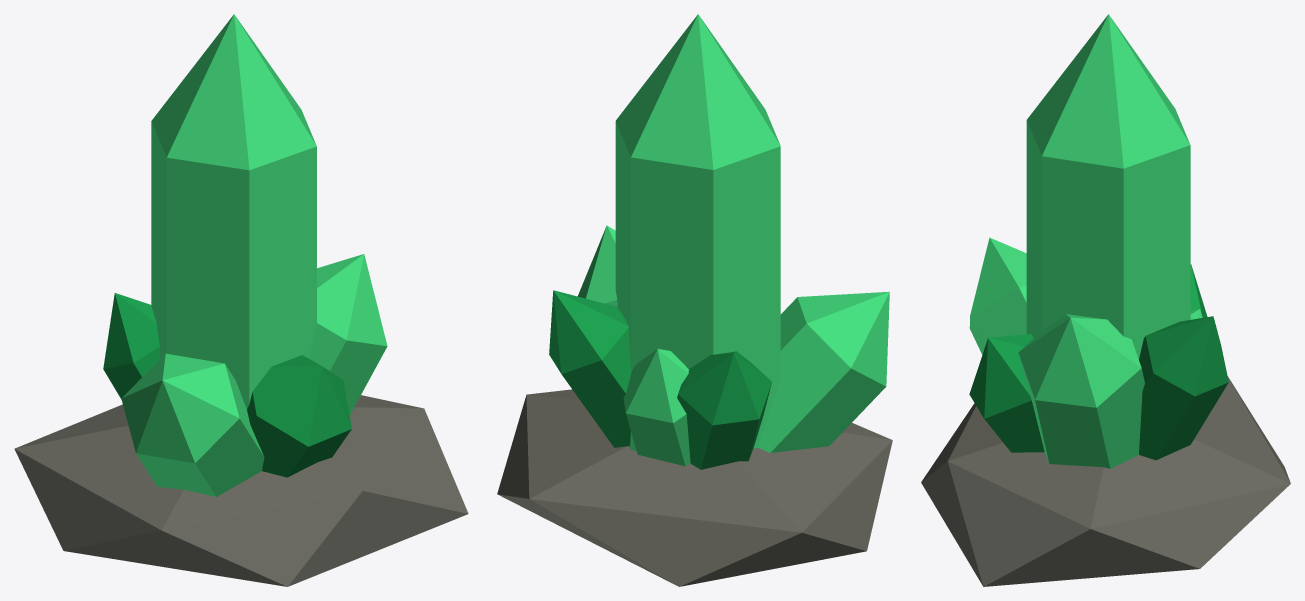
File: EmeraldCrystals.fbx
The picture shows the model from 3 angles, left to right: view 1: azimuth 30°, elevation 25°; view 2: azimuth 150°, elevation 25°; view 3: azimuth 270°, elevation 25°; orthographic projection.
Visible parts, largest first — view 1: EmeraldCrystals; view 2: EmeraldCrystals; view 3: EmeraldCrystals.
Part boxes in pixels (x1,y1,x2,y2): EmeraldCrystals: (14, 14, 468, 586); EmeraldCrystals: (497, 14, 892, 586); EmeraldCrystals: (921, 14, 1290, 586).
Bounding box in the file's own units: 2.3 × 3.34 × 2.12.
Materials: 1 (1 with a texture image).
